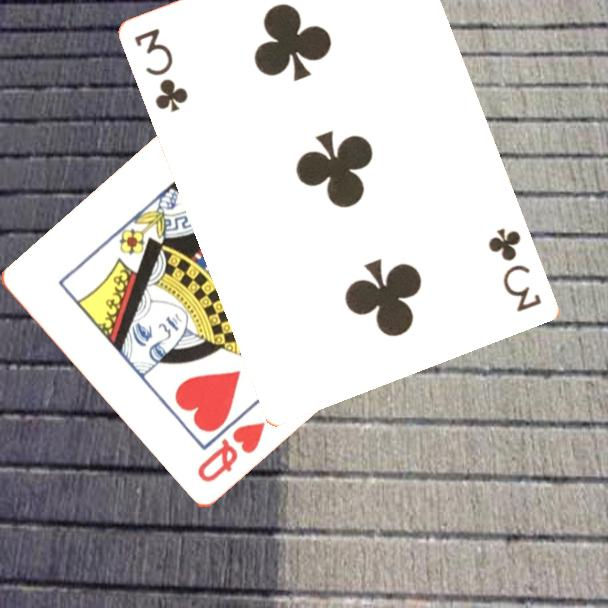c03: (485, 224, 546, 316), (131, 25, 192, 116)
h12: (193, 418, 269, 486)
